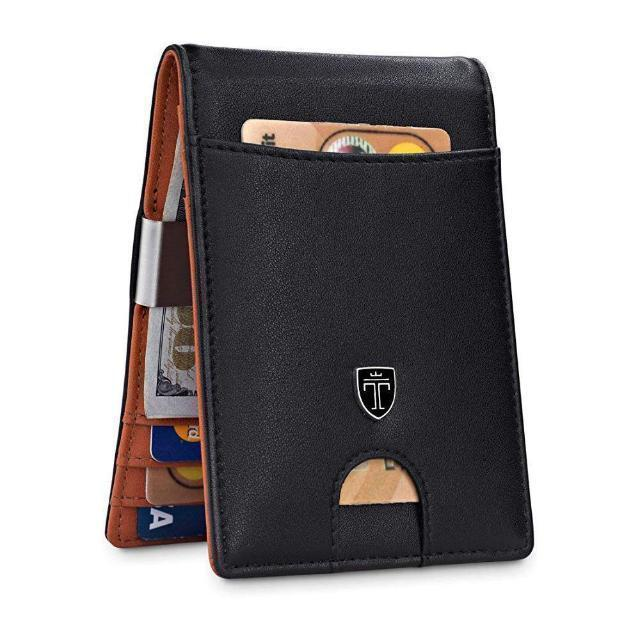wallet: (105, 36, 539, 578)
